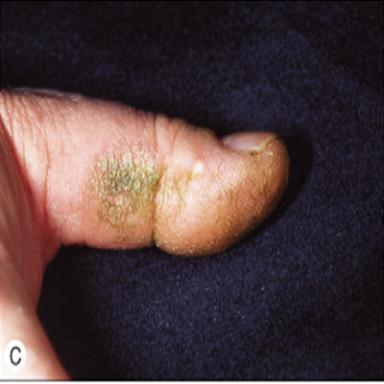eczema: (88, 138, 289, 255)
